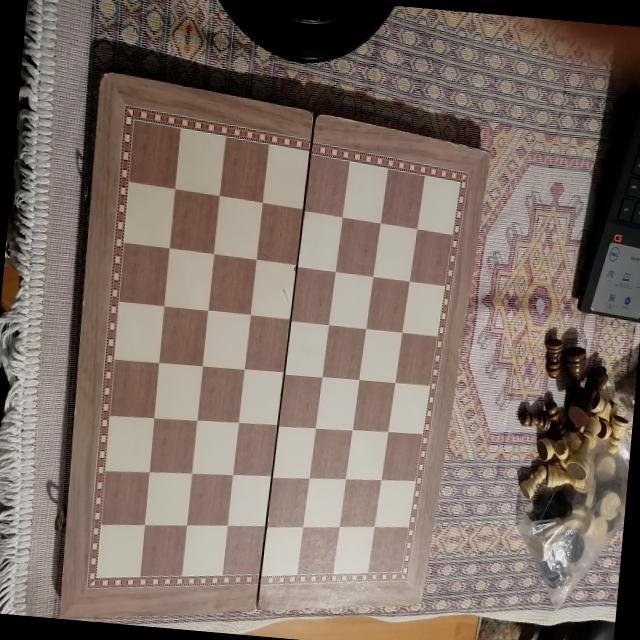corners: (474, 144, 499, 176), (92, 64, 116, 87), (49, 605, 69, 625), (408, 599, 430, 616)
